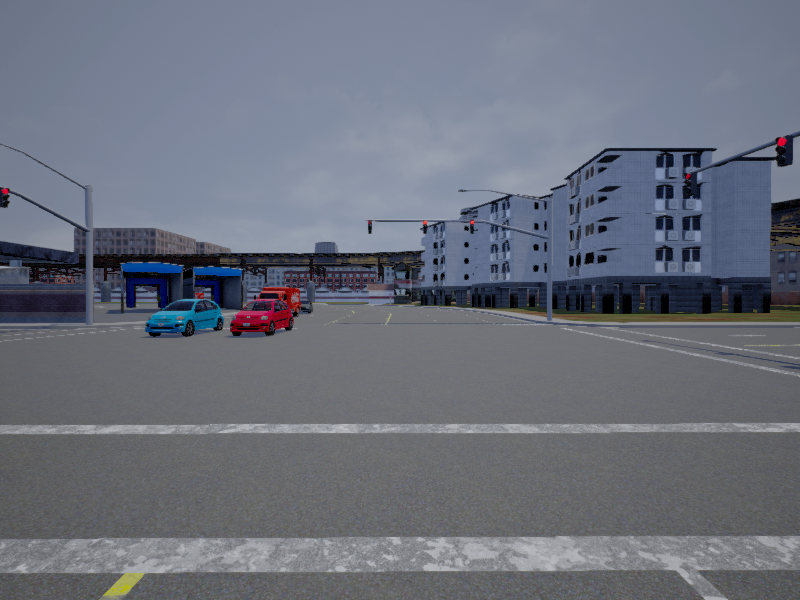Benign: (148, 299, 223, 336), (233, 301, 293, 337), (260, 287, 301, 319)
